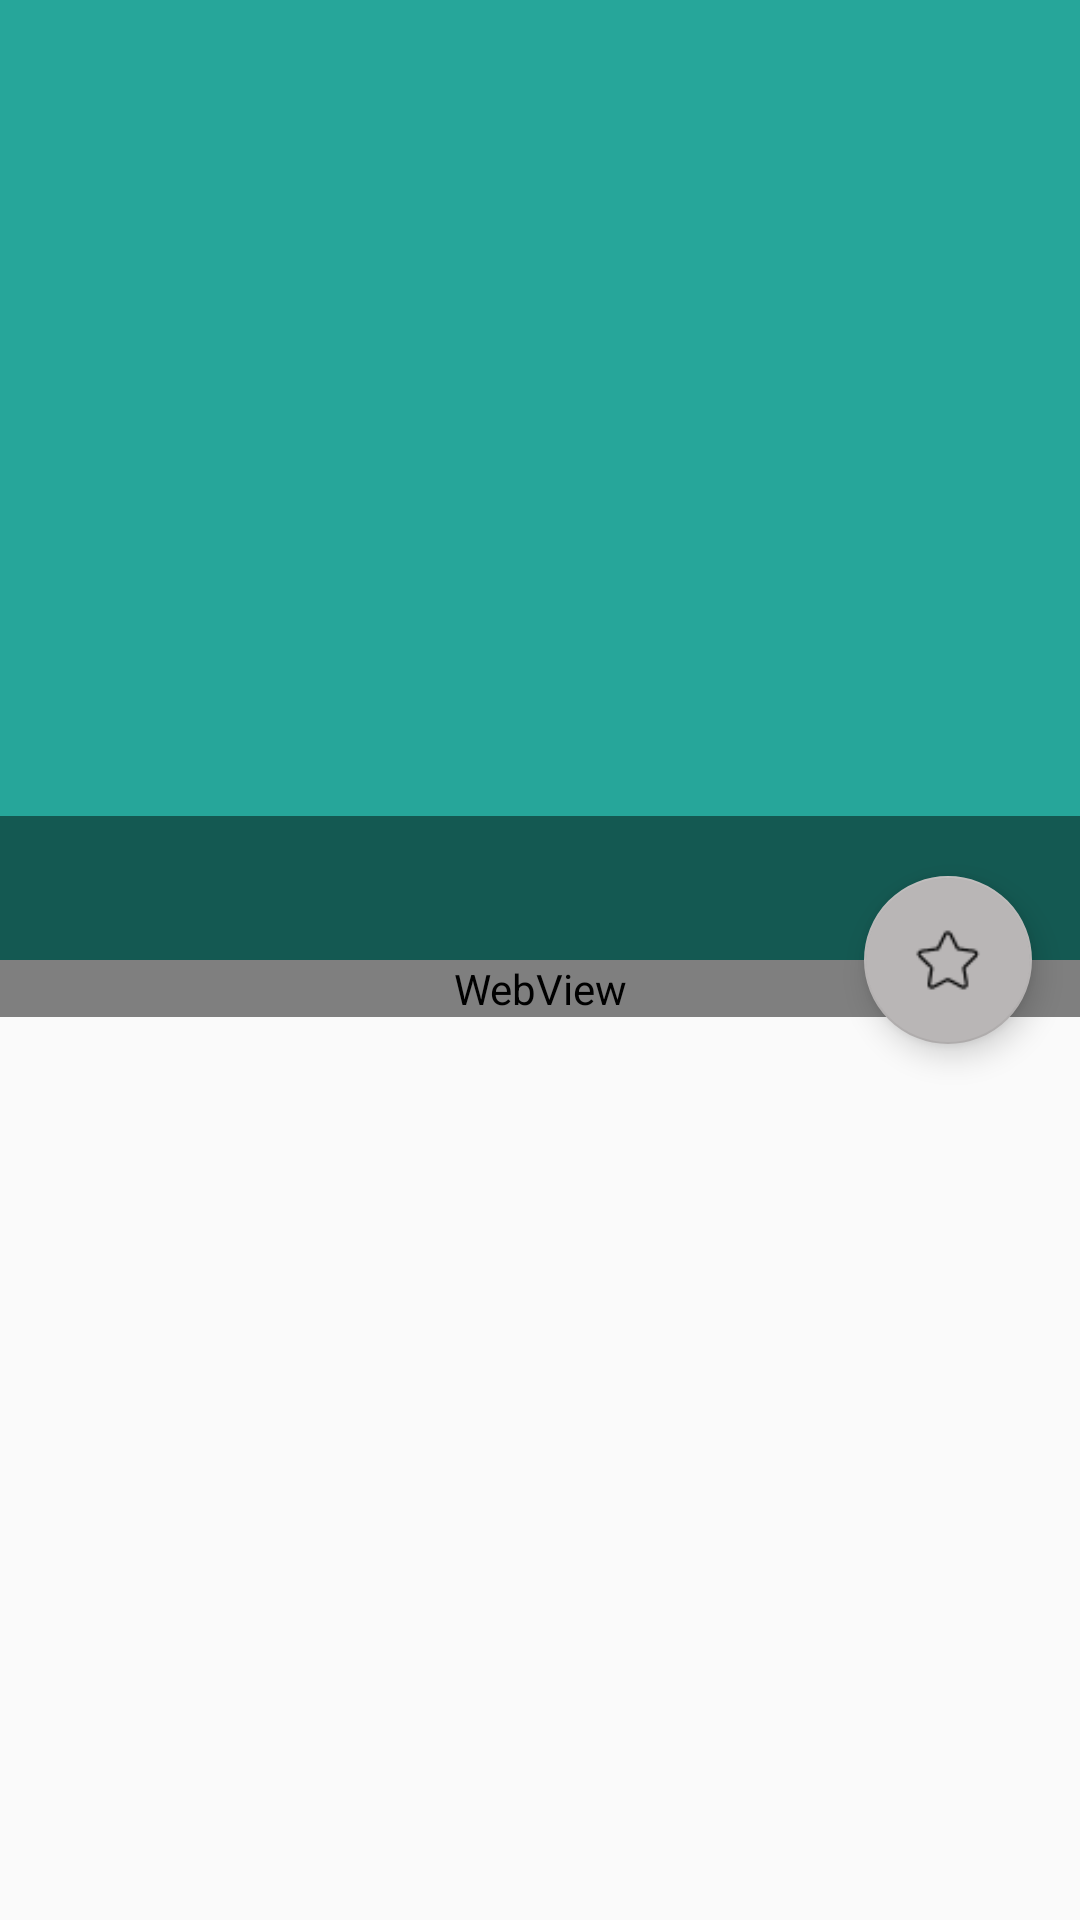

Icon click points for this 1080 x 1920 phone screenshot, format (x=x, y=y):
collect: (x=948, y=960)
